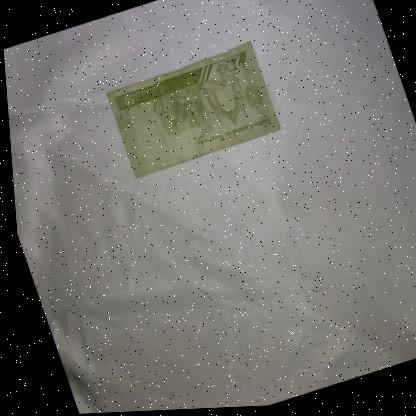fifty-back-vef: (99, 41, 283, 180)
